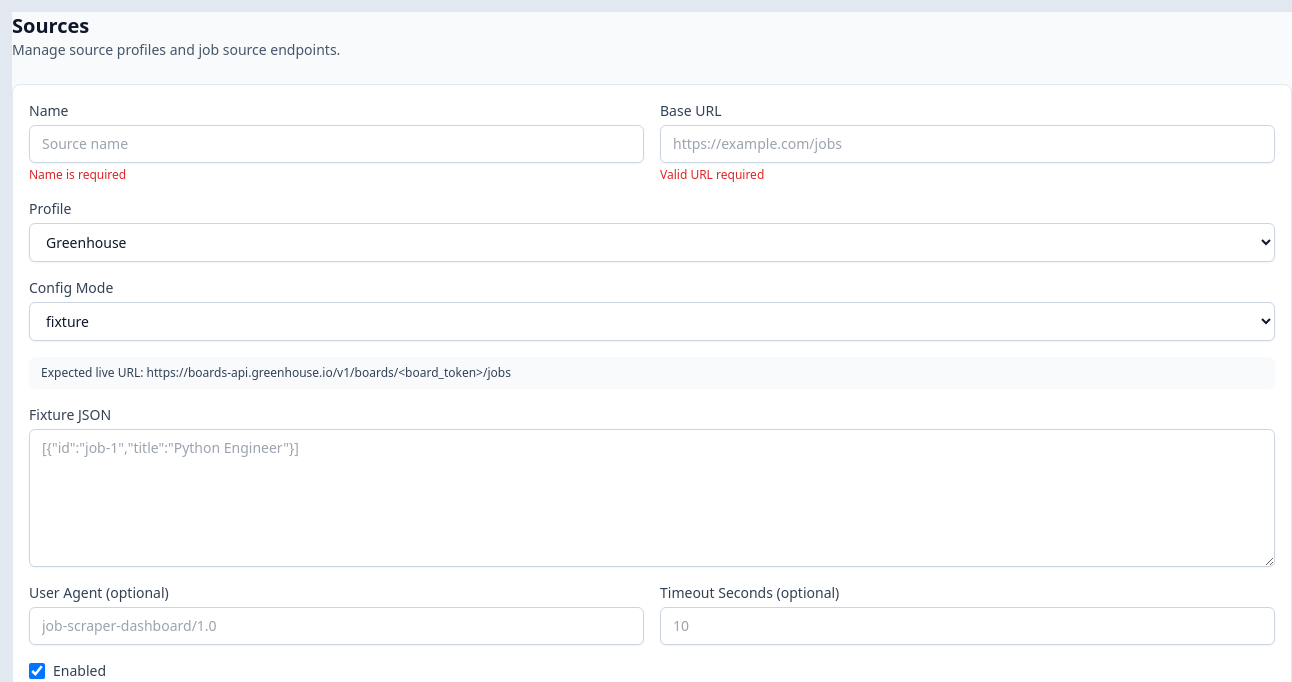
Test: SourcesView integration › shows fixture JSON parse error for invalid input
The width and height of the screenshot is (1292, 682).
Step 1. Type "not-json" into the text box with id "source-fixtures-json" → [652, 498], box [29,429,1275,567]
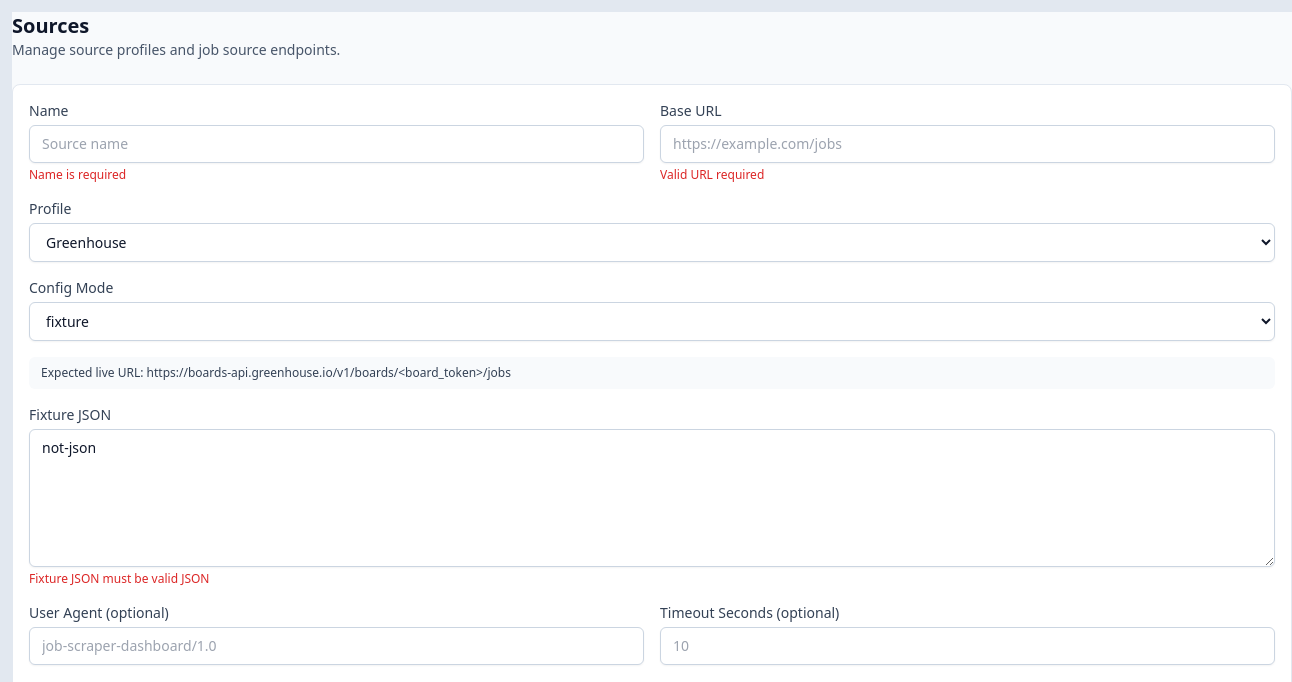
Now the text "Fixture JSON must be valid JSON" is shown, box [29,570,210,587]
